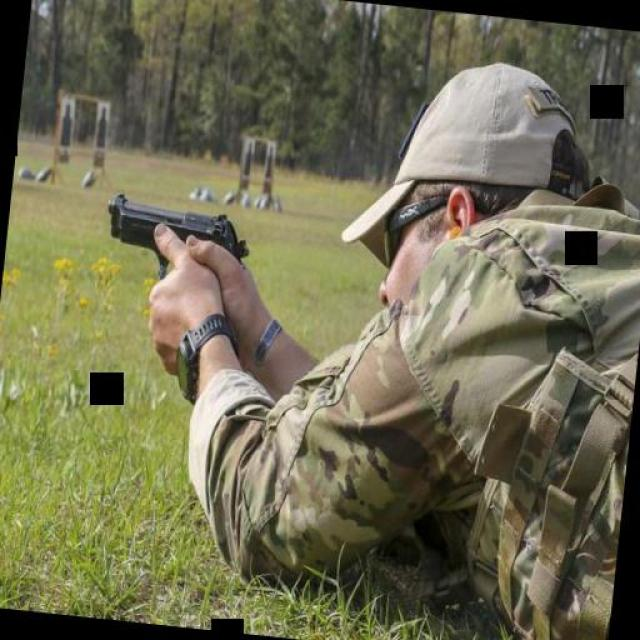gun: (92, 182, 254, 308)
